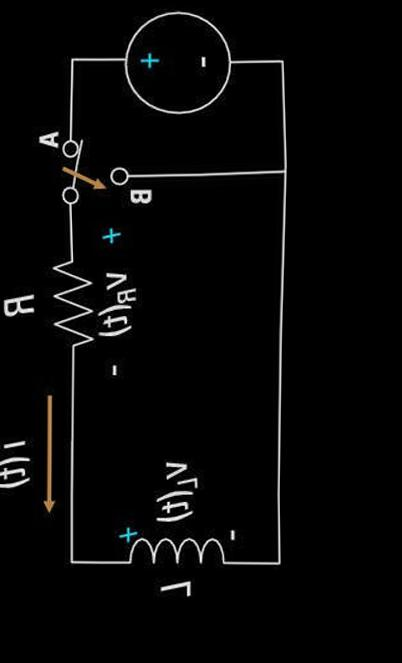Battery: (100, 0, 250, 125)
